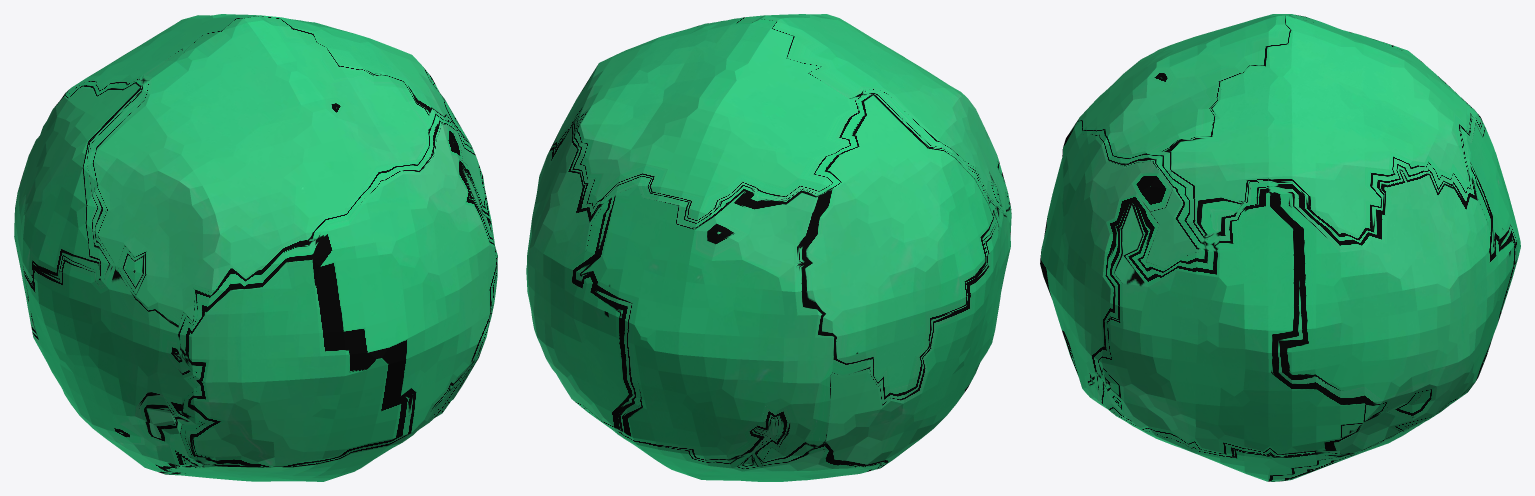
Rendered from coin.glb.
3 renders of one model, left to right at view 1: azimuth 30°, elevation 25°; view 2: azimuth 150°, elevation 25°; view 3: azimuth 270°, elevation 25°, orthographic. The views are drawn at different scales.
Visible parts, largest first — view 1: tripo_node_b16781d6-7c59-44a1-91ca-0fb3157cad1c; view 2: tripo_node_b16781d6-7c59-44a1-91ca-0fb3157cad1c; view 3: tripo_node_b16781d6-7c59-44a1-91ca-0fb3157cad1c.
Boxes of the visible parts, bbox=[...] form: tripo_node_b16781d6-7c59-44a1-91ca-0fb3157cad1c: bbox=[14, 14, 497, 481]; tripo_node_b16781d6-7c59-44a1-91ca-0fb3157cad1c: bbox=[526, 14, 1011, 481]; tripo_node_b16781d6-7c59-44a1-91ca-0fb3157cad1c: bbox=[1040, 14, 1520, 481].
Bounding box in the file's own units: 0.9634 × 0.9889 × 0.9748.
1 material, 1 textured.
